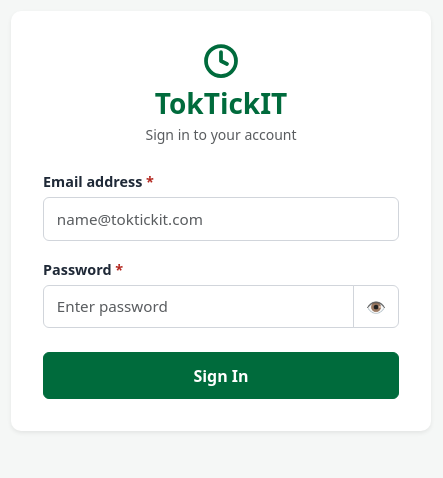
Login Component (UI-01, AC-01, FR-01) › displays client-side error when fields are empty
Click the button "Sign In" at (221, 376), box [43,352,399,399]
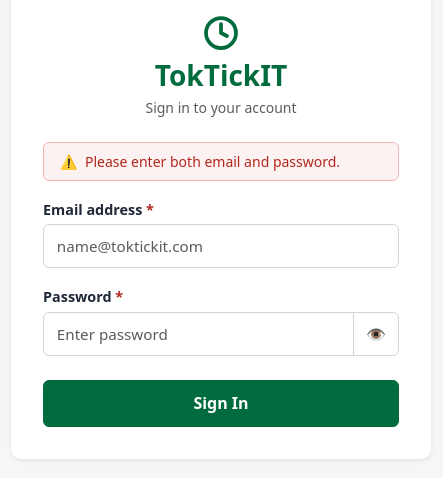
expect the text "Please enter both email and password." is shown: met, box [85,151,340,172]
